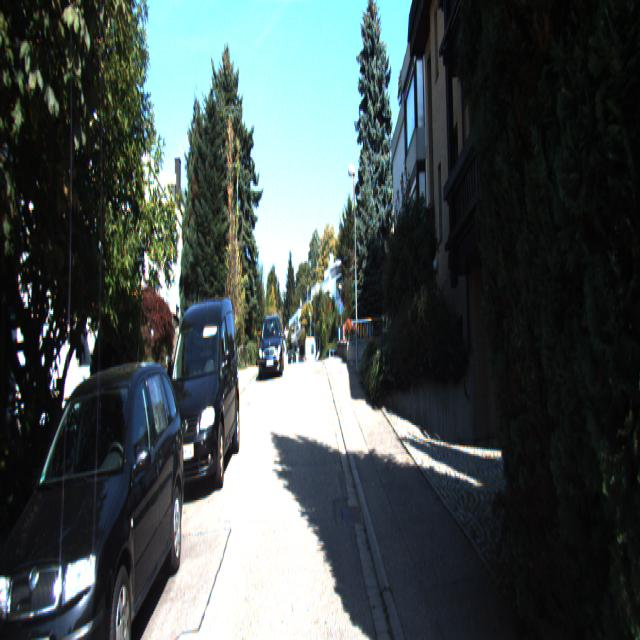Car: (0, 352, 187, 638), (156, 288, 242, 500), (257, 312, 286, 379)
